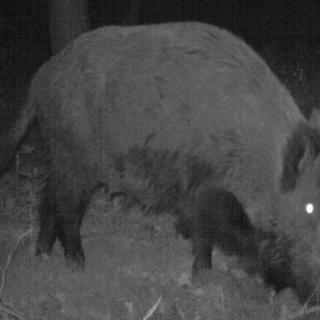Pig: (15, 15, 320, 309)
